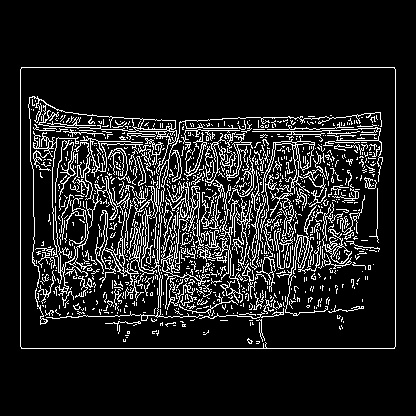buddha-sitting: (50, 134, 205, 212)
